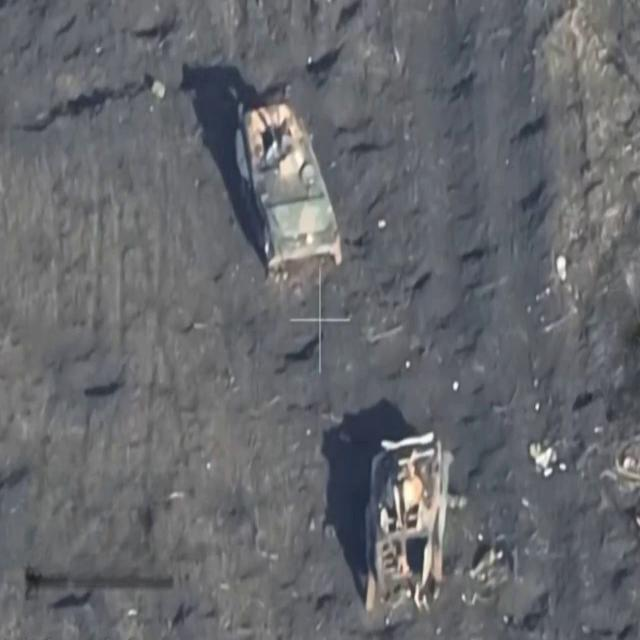AIFV: (242, 103, 338, 283)
Destroyed: (366, 439, 452, 606)
